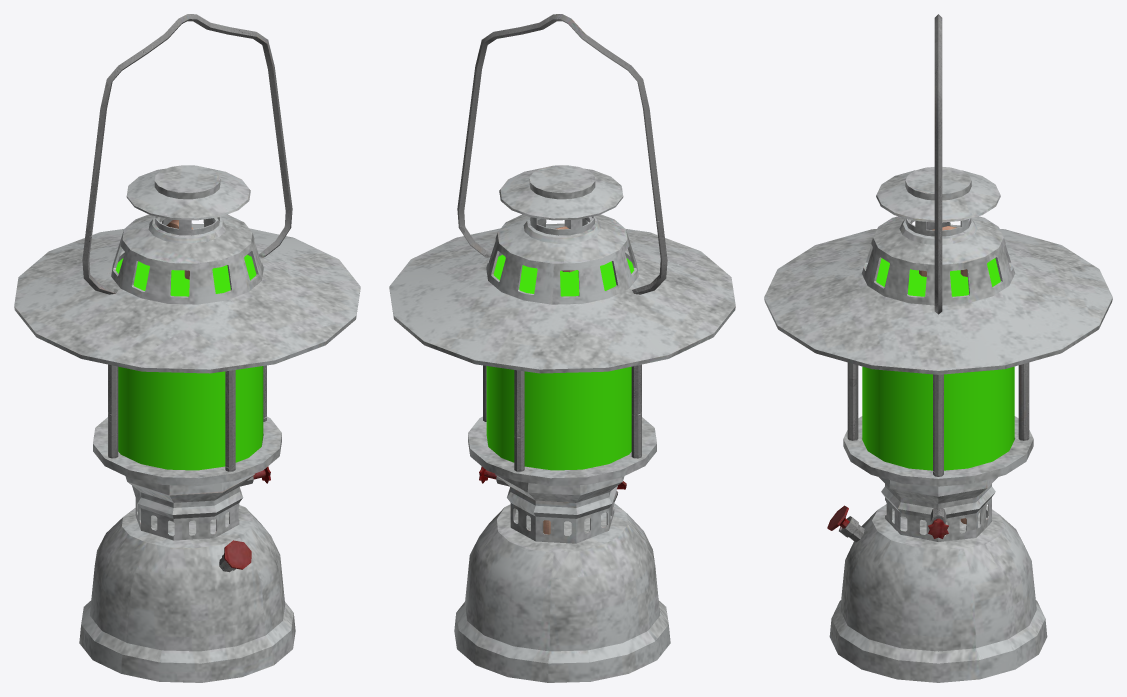
The model's file is Petromak_low.fbx.
3 renders of one model, left to right at view 1: azimuth 30°, elevation 25°; view 2: azimuth 150°, elevation 25°; view 3: azimuth 270°, elevation 25°, orthographic.
Visible parts, largest first — view 1: Petromak_low; view 2: Petromak_low; view 3: Petromak_low.
Part boxes in pixels (box(x1,y1,x2,y2)): Petromak_low: box(14, 14, 360, 682); Petromak_low: box(389, 14, 735, 682); Petromak_low: box(764, 14, 1112, 682).
Size of the model in its own units: 1.48 by 2.91 by 1.48.
